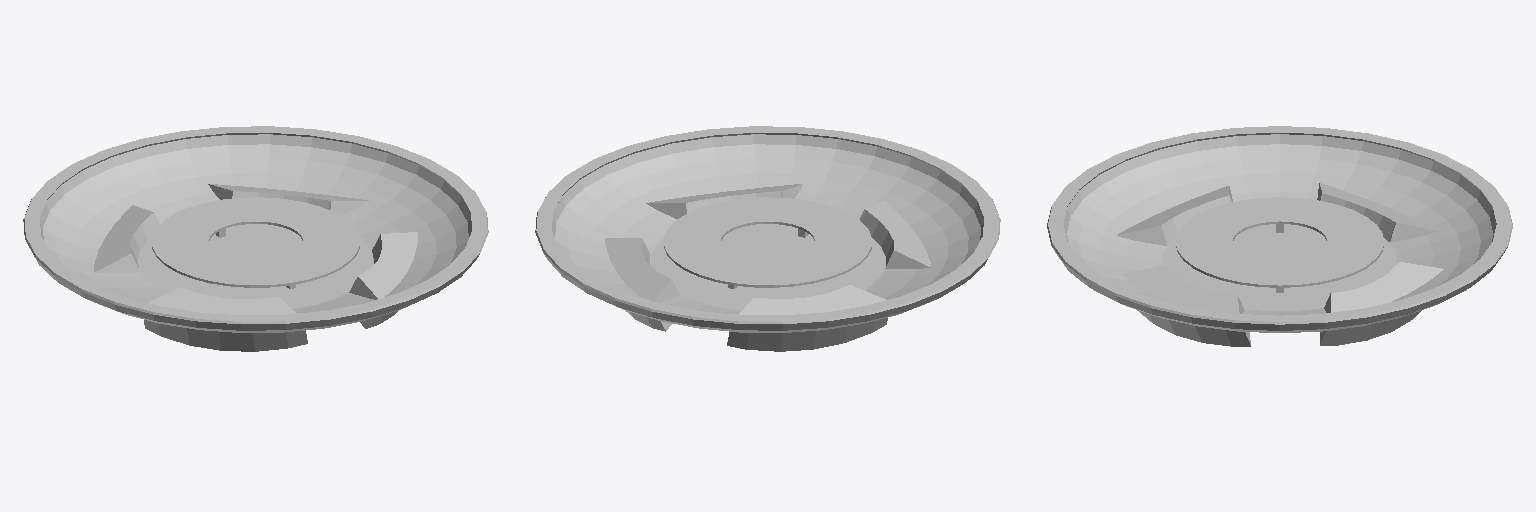
Rendered from disc.obj.
3 renders of one model, left to right at view 1: azimuth 30°, elevation 25°; view 2: azimuth 150°, elevation 25°; view 3: azimuth 270°, elevation 25°, orthographic.
Visible parts, largest first — view 1: Sphere-col_Sphere; view 2: Sphere-col_Sphere; view 3: Sphere-col_Sphere.
Boxes of the visible parts, x1,y1,x2,y2 form: Sphere-col_Sphere: [23, 126, 488, 351]; Sphere-col_Sphere: [535, 126, 1000, 351]; Sphere-col_Sphere: [1047, 126, 1512, 346].
Size of the model in its own units: 600 by 90.56 by 600.